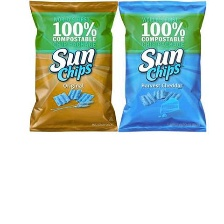snack: (115, 0, 213, 135), (24, 0, 121, 136)
